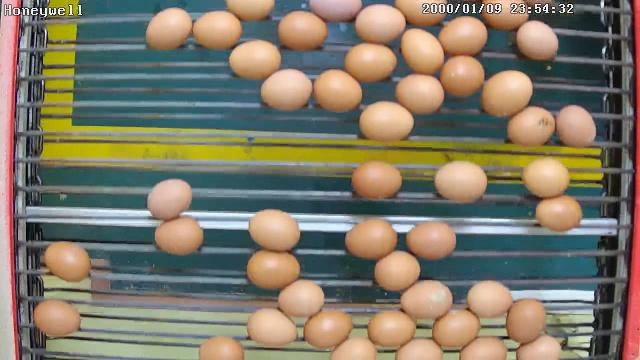egg: (478, 69, 534, 120), (357, 99, 415, 144), (244, 247, 300, 292), (259, 68, 313, 114), (342, 42, 398, 86), (226, 40, 282, 84), (398, 279, 454, 322), (144, 6, 193, 55), (434, 160, 488, 204), (312, 69, 363, 115), (436, 14, 488, 59), (394, 71, 446, 116), (276, 9, 328, 54), (344, 218, 397, 262), (247, 208, 301, 251), (302, 306, 354, 350), (244, 306, 298, 348), (399, 28, 447, 75), (354, 4, 406, 47), (350, 160, 403, 202), (145, 176, 193, 222), (432, 306, 481, 351), (42, 240, 92, 284), (504, 105, 556, 147), (190, 9, 240, 52), (153, 216, 204, 258), (404, 220, 456, 261), (31, 298, 84, 338), (502, 296, 546, 344), (373, 250, 421, 294), (440, 53, 484, 100), (555, 102, 598, 150), (534, 194, 584, 234), (514, 19, 560, 62), (276, 279, 325, 319), (366, 310, 417, 348), (466, 280, 514, 320), (522, 158, 570, 198)
